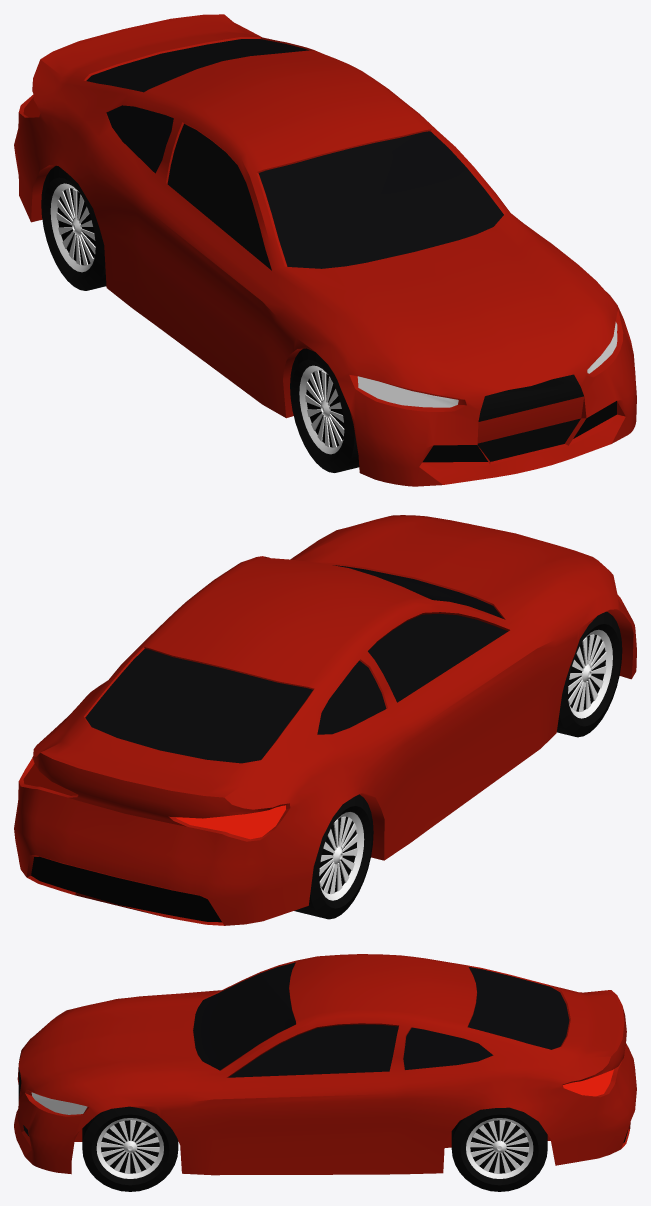
The model's file is car.fbx.
3 views of the same model, one above another, from view 1: azimuth 30°, elevation 25°; view 2: azimuth 150°, elevation 25°; view 3: azimuth 270°, elevation 25° (orthographic). The views are drawn at different scales.
Visible parts, largest first — view 1: Cube, Cylinder.002, Cylinder.001; view 2: Cube, Cylinder.001, Cylinder.002; view 3: Cube, Cylinder.004, Cylinder.003.
Part boxes in pixels (x1,y1,x2,y2): Cube: [14, 14, 636, 486]; Cylinder.002: [290, 348, 359, 472]; Cylinder.001: [41, 165, 106, 290]; Cube: [14, 515, 636, 925]; Cylinder.001: [294, 794, 373, 919]; Cylinder.002: [557, 611, 622, 737]; Cube: [14, 954, 636, 1175]; Cylinder.004: [451, 1107, 547, 1191]; Cylinder.003: [82, 1106, 178, 1191].
Bounding box in the file's own units: 387 × 288 × 985.
